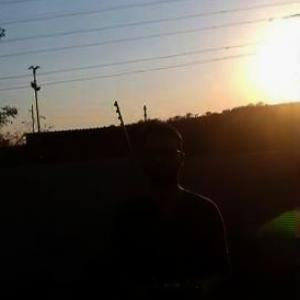follow: (103, 112, 240, 299)
